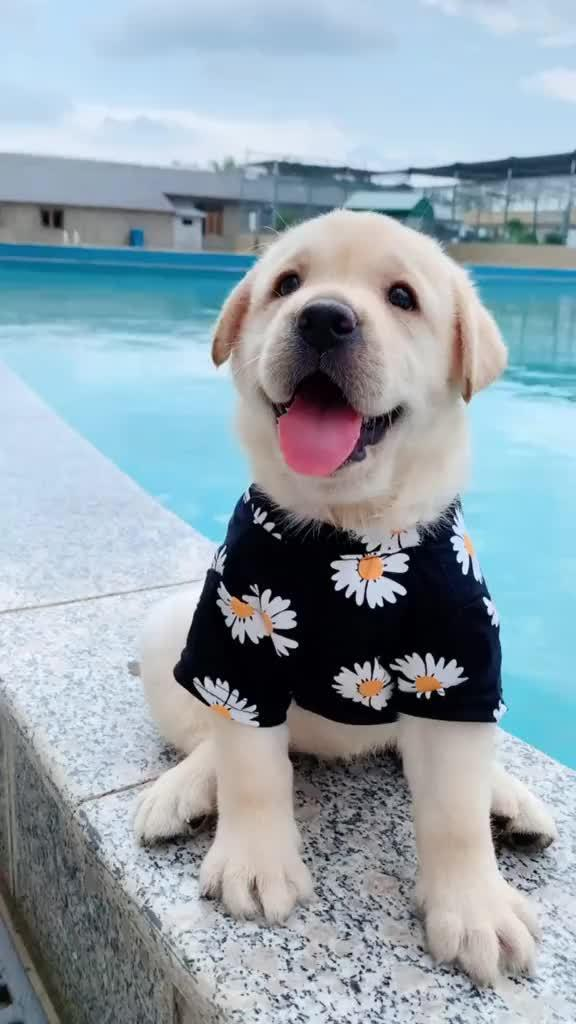dog: (124, 199, 563, 1000)
